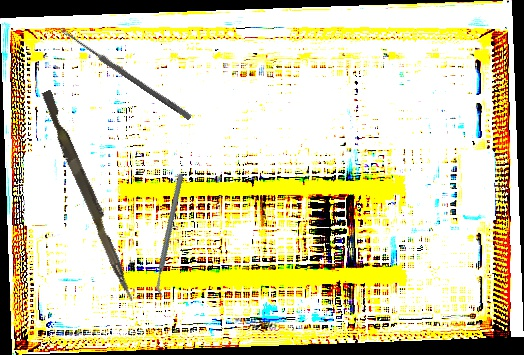Chopper: (114, 172, 227, 298)
Pusher: (35, 89, 143, 303)
Surgical Spoon: (58, 26, 193, 121)
